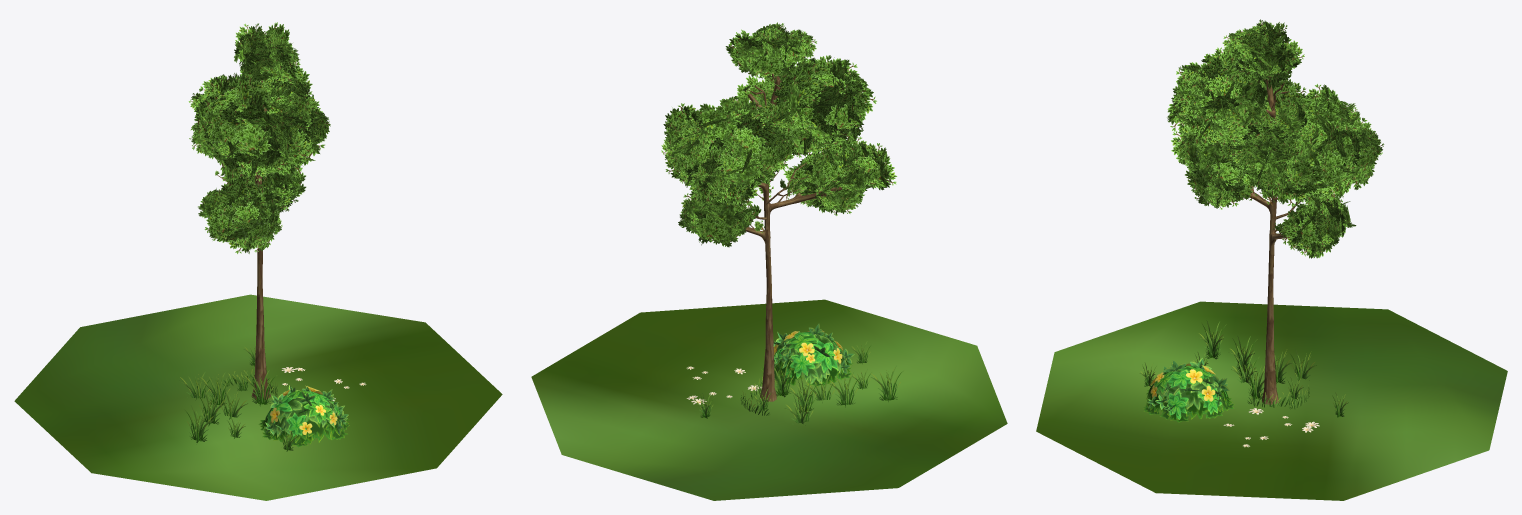
Rendered from arbol_ARBUSTO.fbx.
3 renders of one model, left to right at view 1: azimuth 30°, elevation 25°; view 2: azimuth 150°, elevation 25°; view 3: azimuth 270°, elevation 25°, orthographic.
Visible parts, largest first — view 1: plano, Plane.216, arbusto, Plane.233; view 2: plano, Plane.216, arbusto, Plane.233; view 3: plano, Plane.216, arbusto, Plane.233.
Part boxes in pixels (x1,y1,x2,y2): plano: [14, 294, 502, 500]; Plane.216: [188, 22, 330, 399]; arbusto: [258, 385, 349, 447]; Plane.233: [179, 346, 298, 451]; plano: [531, 299, 1007, 500]; Plane.216: [661, 22, 897, 401]; arbusto: [761, 323, 854, 386]; Plane.233: [695, 341, 904, 425]; plano: [1036, 301, 1507, 500]; Plane.216: [1167, 19, 1384, 404]; arbusto: [1142, 357, 1234, 422]; Plane.233: [1139, 320, 1348, 417].
Size of the model in its own units: 4070 by 3734 by 4070.
3 materials, 3 textured.
